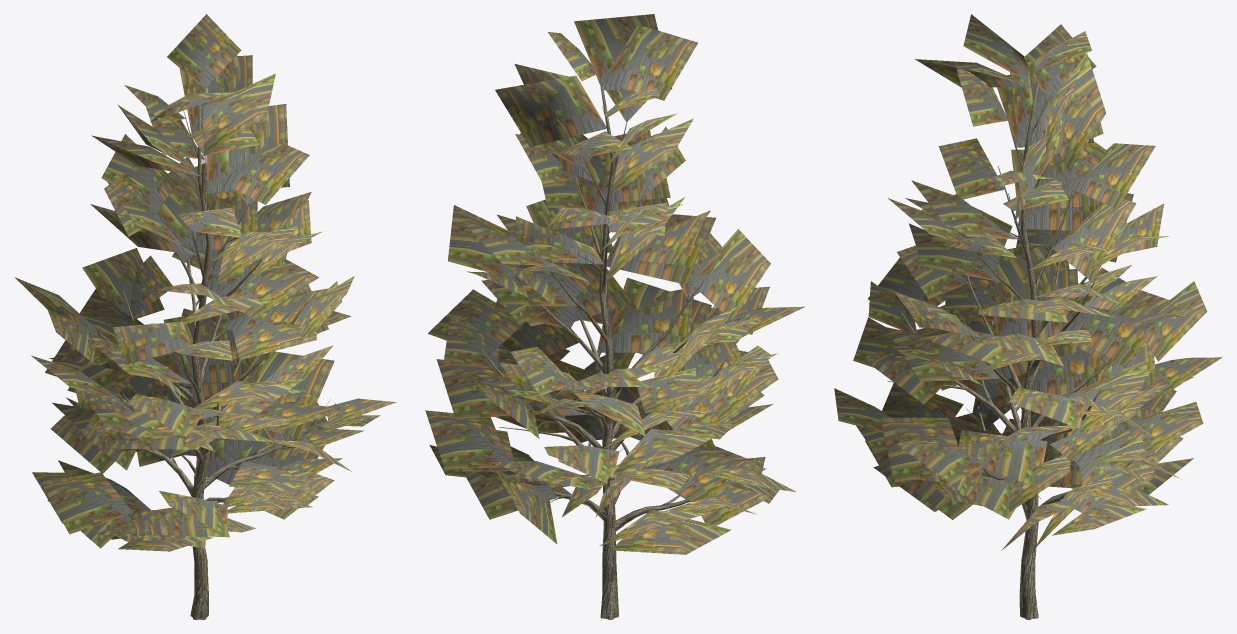
File: OrangeTree.fbx
The picture shows the model from 3 angles, left to right: view 1: azimuth 30°, elevation 25°; view 2: azimuth 150°, elevation 25°; view 3: azimuth 270°, elevation 25°; orthographic projection. The views are drawn at different scales.
Visible parts, largest first — view 1: Tree_1, Tree_0; view 2: Tree_1, Tree_0; view 3: Tree_1, Tree_0.
Boxes of the visible parts, x1,y1,x2,y2 form: Tree_1: [14, 14, 396, 551]; Tree_0: [65, 86, 335, 619]; Tree_1: [425, 14, 804, 554]; Tree_0: [480, 72, 740, 619]; Tree_1: [834, 14, 1222, 550]; Tree_0: [887, 65, 1154, 619].
Bounding box in the file's own units: 143 × 253 × 148.
Materials: 2 (2 with a texture image).
